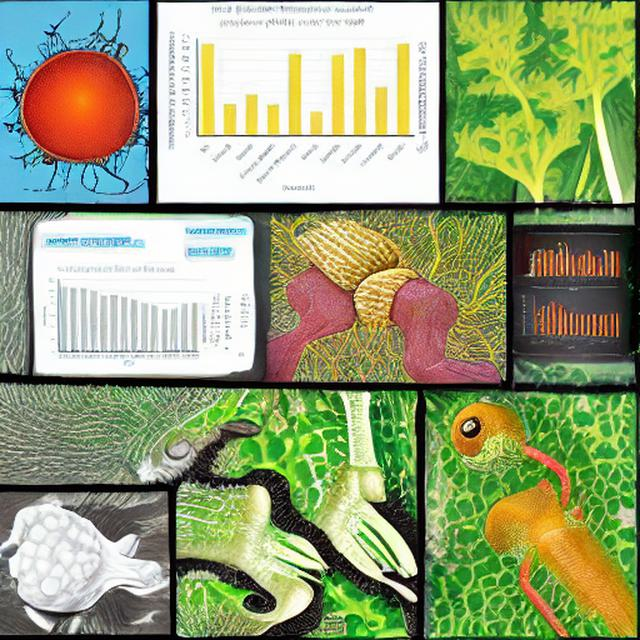Graph: (163, 2, 417, 197), (38, 266, 203, 368), (518, 284, 622, 352)
